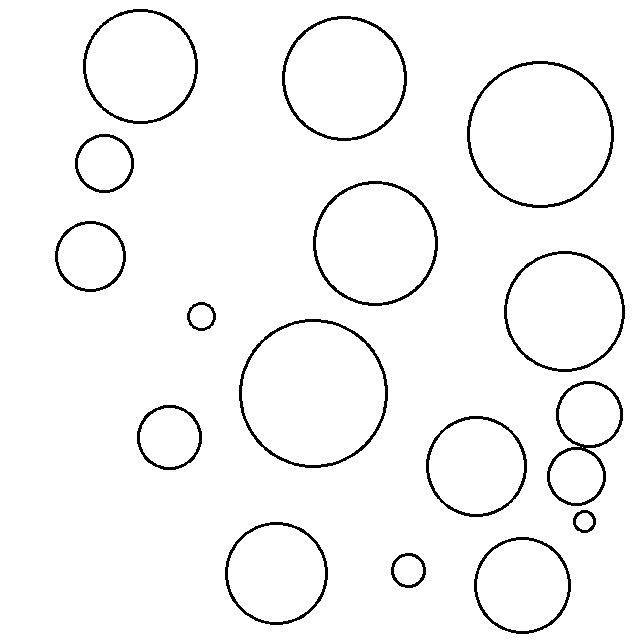circle: (235, 314, 391, 470), (463, 56, 618, 210), (310, 174, 446, 311), (279, 11, 410, 144), (500, 245, 628, 376), (80, 6, 201, 128), (224, 517, 332, 625), (424, 412, 530, 518), (472, 533, 573, 635), (51, 217, 130, 296), (555, 377, 626, 449), (135, 401, 204, 473), (72, 132, 138, 195), (544, 445, 610, 508), (388, 550, 430, 591), (183, 299, 219, 333), (569, 509, 601, 536)
